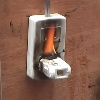fire: (45, 26, 58, 54)
